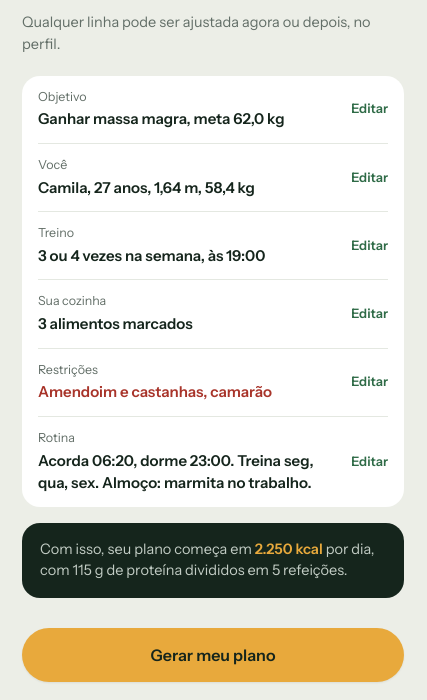
Test: Resumo (S08) › etapa incompleta leva a ela, avisando
(page scrolled)
Expected: the text "Amendoim e castanhas, camarão" is shown, [38,382,272,401]
What coordinates should you click on to do the following:
click the button "Gerar meu plano"
I would click on:
 (213, 655)
Its box is [22,628,404,682].
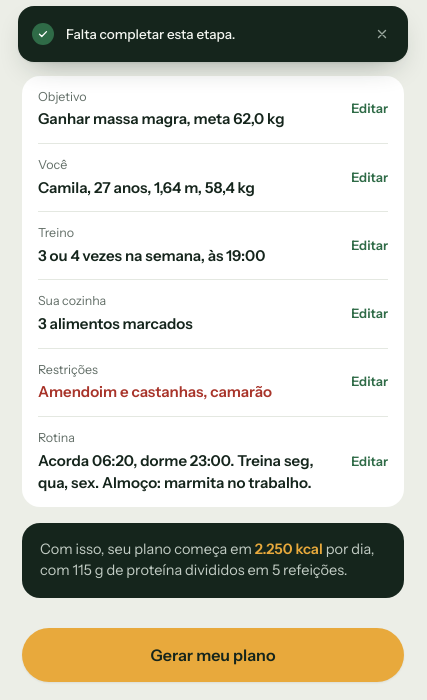
Result: the text "Falta completar esta etapa." is shown at [66,26,235,42]
